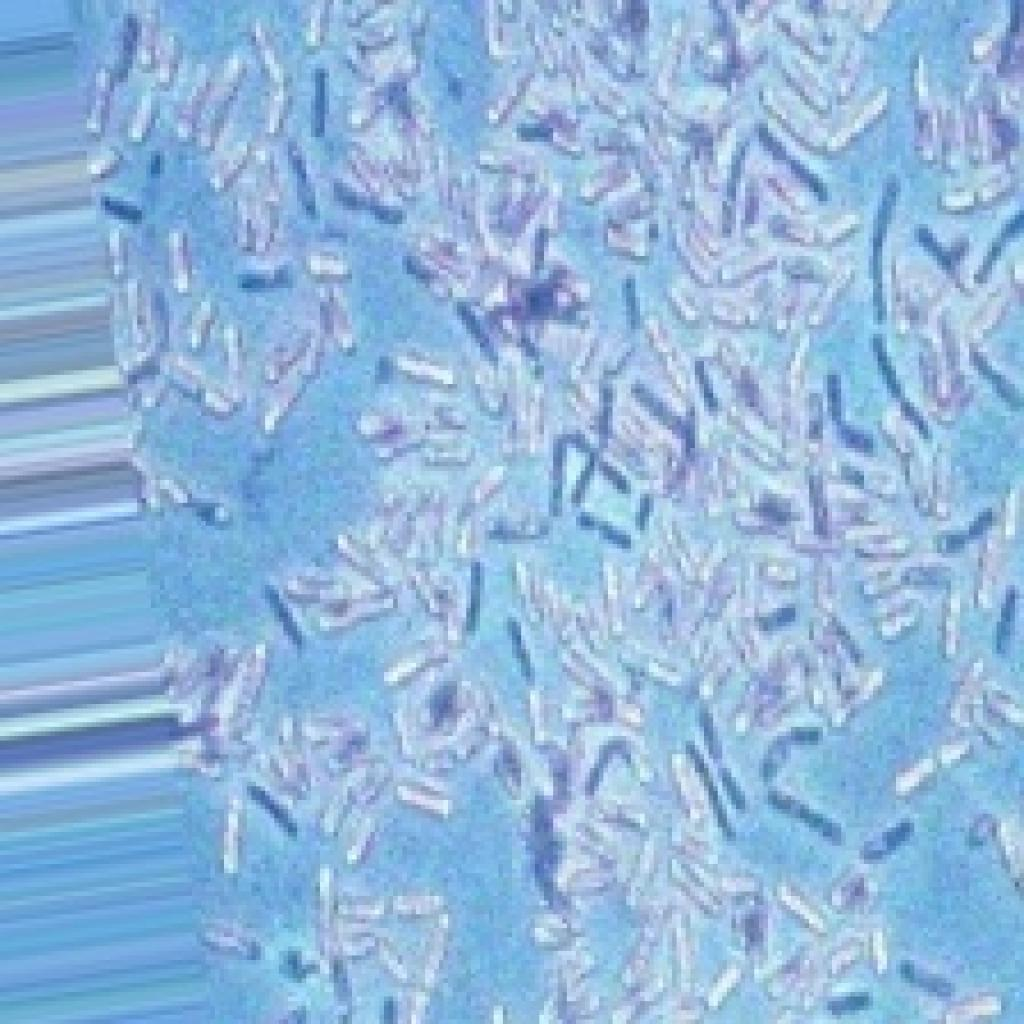Rodbacteria: (50, 0, 1019, 1019)
